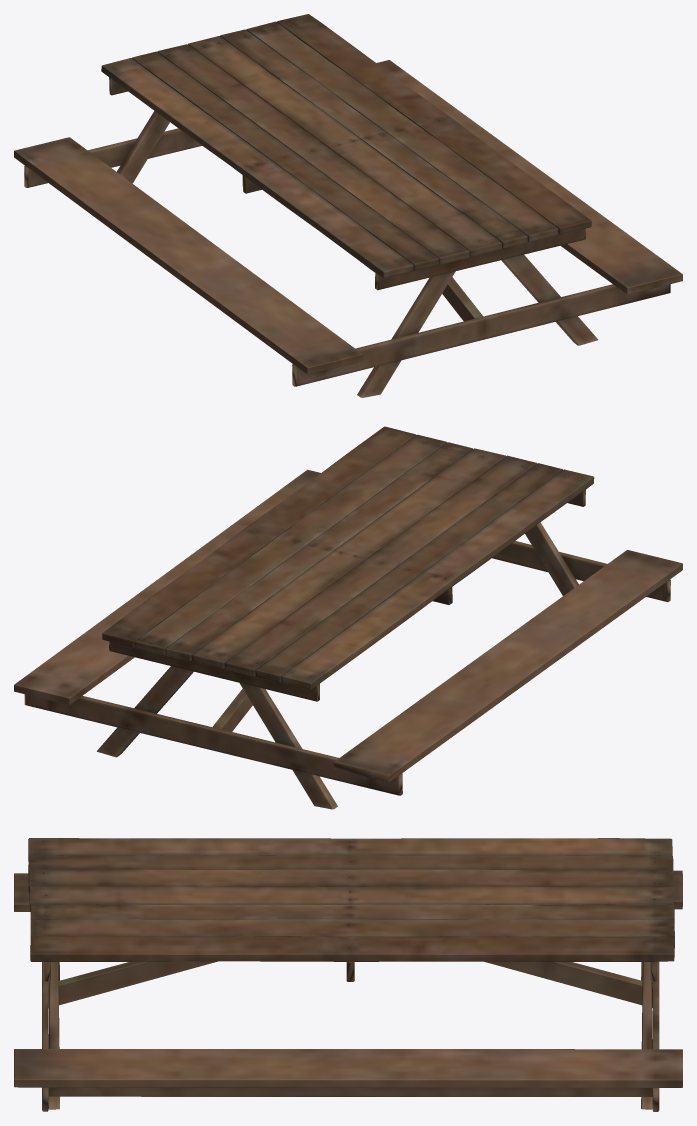
File: ph_picnic.glb
The picture shows the model from 3 angles, top to bottom: view 1: azimuth 30°, elevation 25°; view 2: azimuth 150°, elevation 25°; view 3: azimuth 270°, elevation 25°; orthographic projection. The views are drawn at different scales.
Visible parts, largest first — view 1: ph_picnic; view 2: ph_picnic; view 3: ph_picnic.
Boxes of the visible parts, x1,y1,x2,y2 form: ph_picnic: [14, 14, 682, 397]; ph_picnic: [14, 426, 682, 809]; ph_picnic: [14, 838, 682, 1111].
Bounding box in the file's own units: 2.24 × 0.7454 × 3.02.
2 materials, 2 textured.
